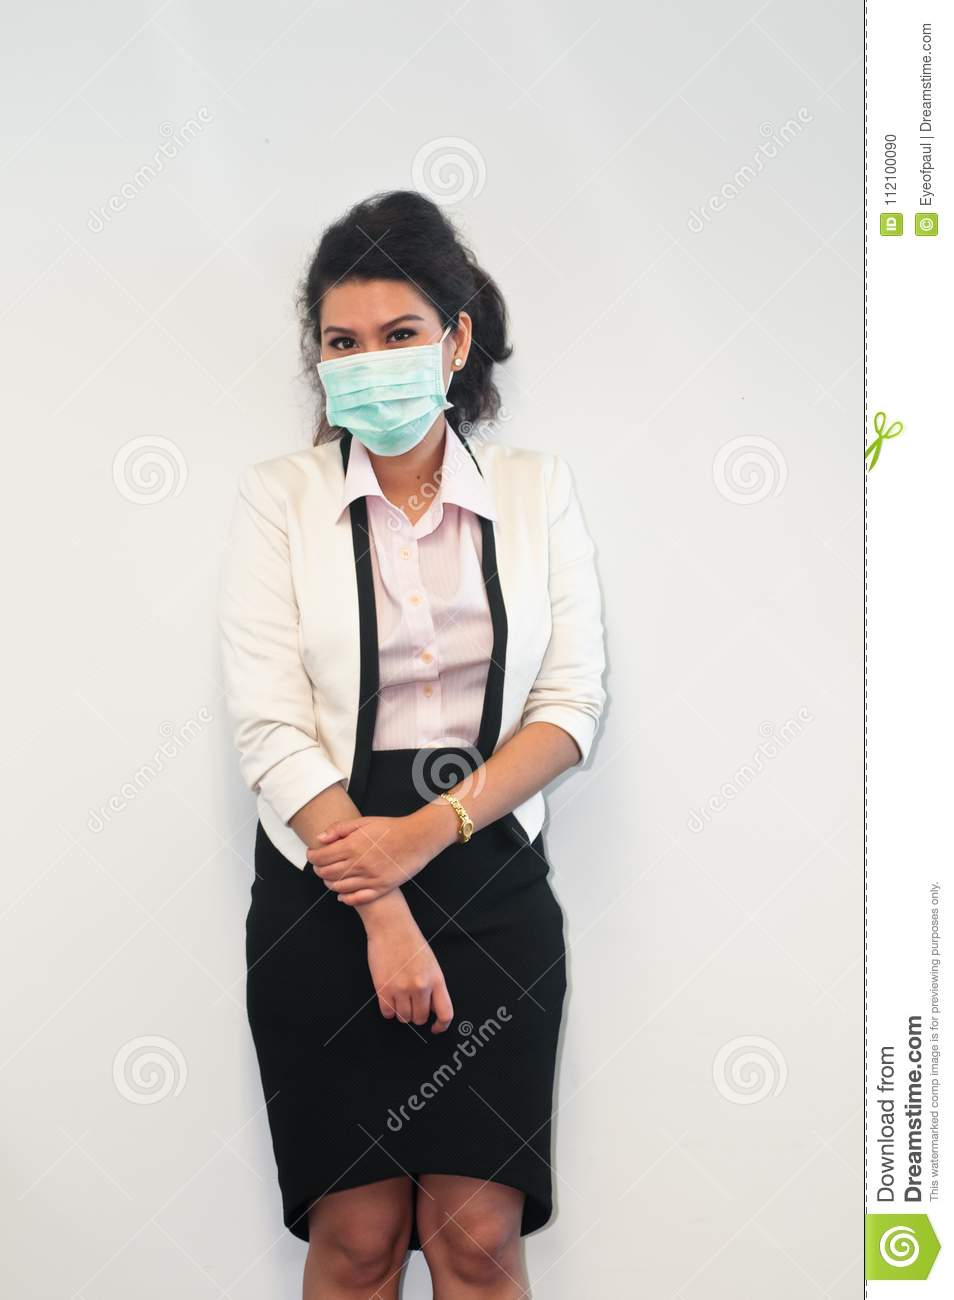mask: (312, 344, 453, 461)
